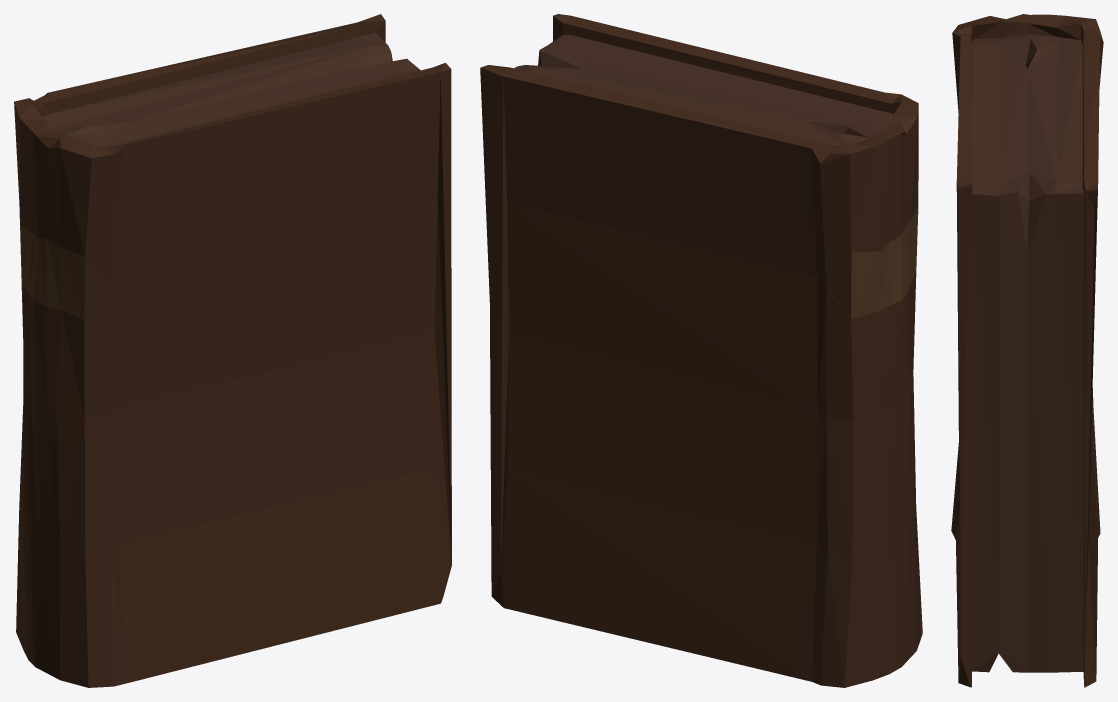
File: book.fbx
3 renders of one model, left to right at view 1: azimuth 30°, elevation 25°; view 2: azimuth 150°, elevation 25°; view 3: azimuth 270°, elevation 25°, orthographic. The views are drawn at different scales.
Parts seen in each view (by area): view 1: AWS_Book_Brown_002; view 2: AWS_Book_Brown_002; view 3: AWS_Book_Brown_002.
Boxes of the visible parts, <box> form: AWS_Book_Brown_002: <box>14,14,451,687</box>; AWS_Book_Brown_002: <box>480,14,922,687</box>; AWS_Book_Brown_002: <box>951,14,1103,687</box>.
Size of the model in its own units: 18.46 by 24.7 by 6.74.
